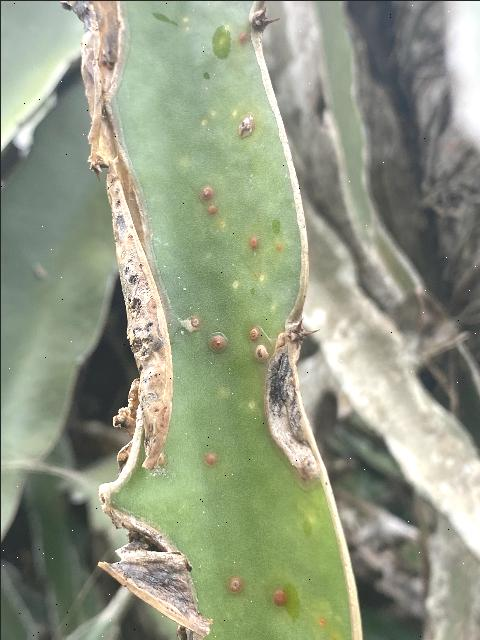stemcanker: (75, 6, 178, 474), (83, 473, 213, 638), (271, 300, 327, 486)
